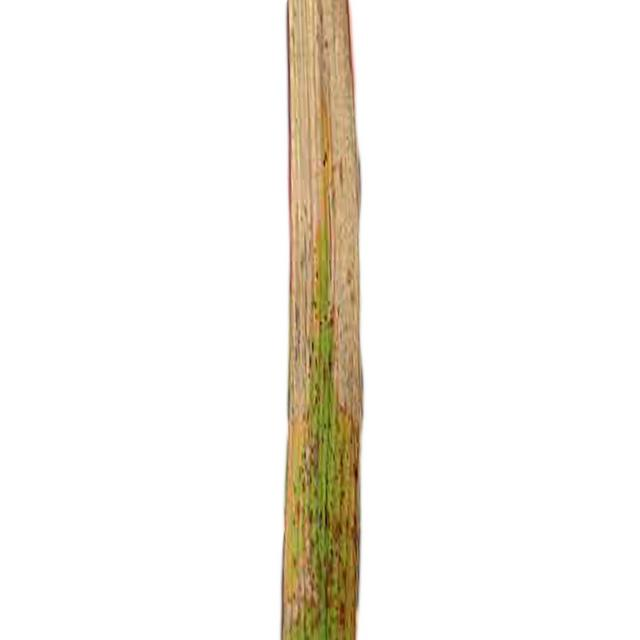Leaf scald: (217, 0, 442, 640)
